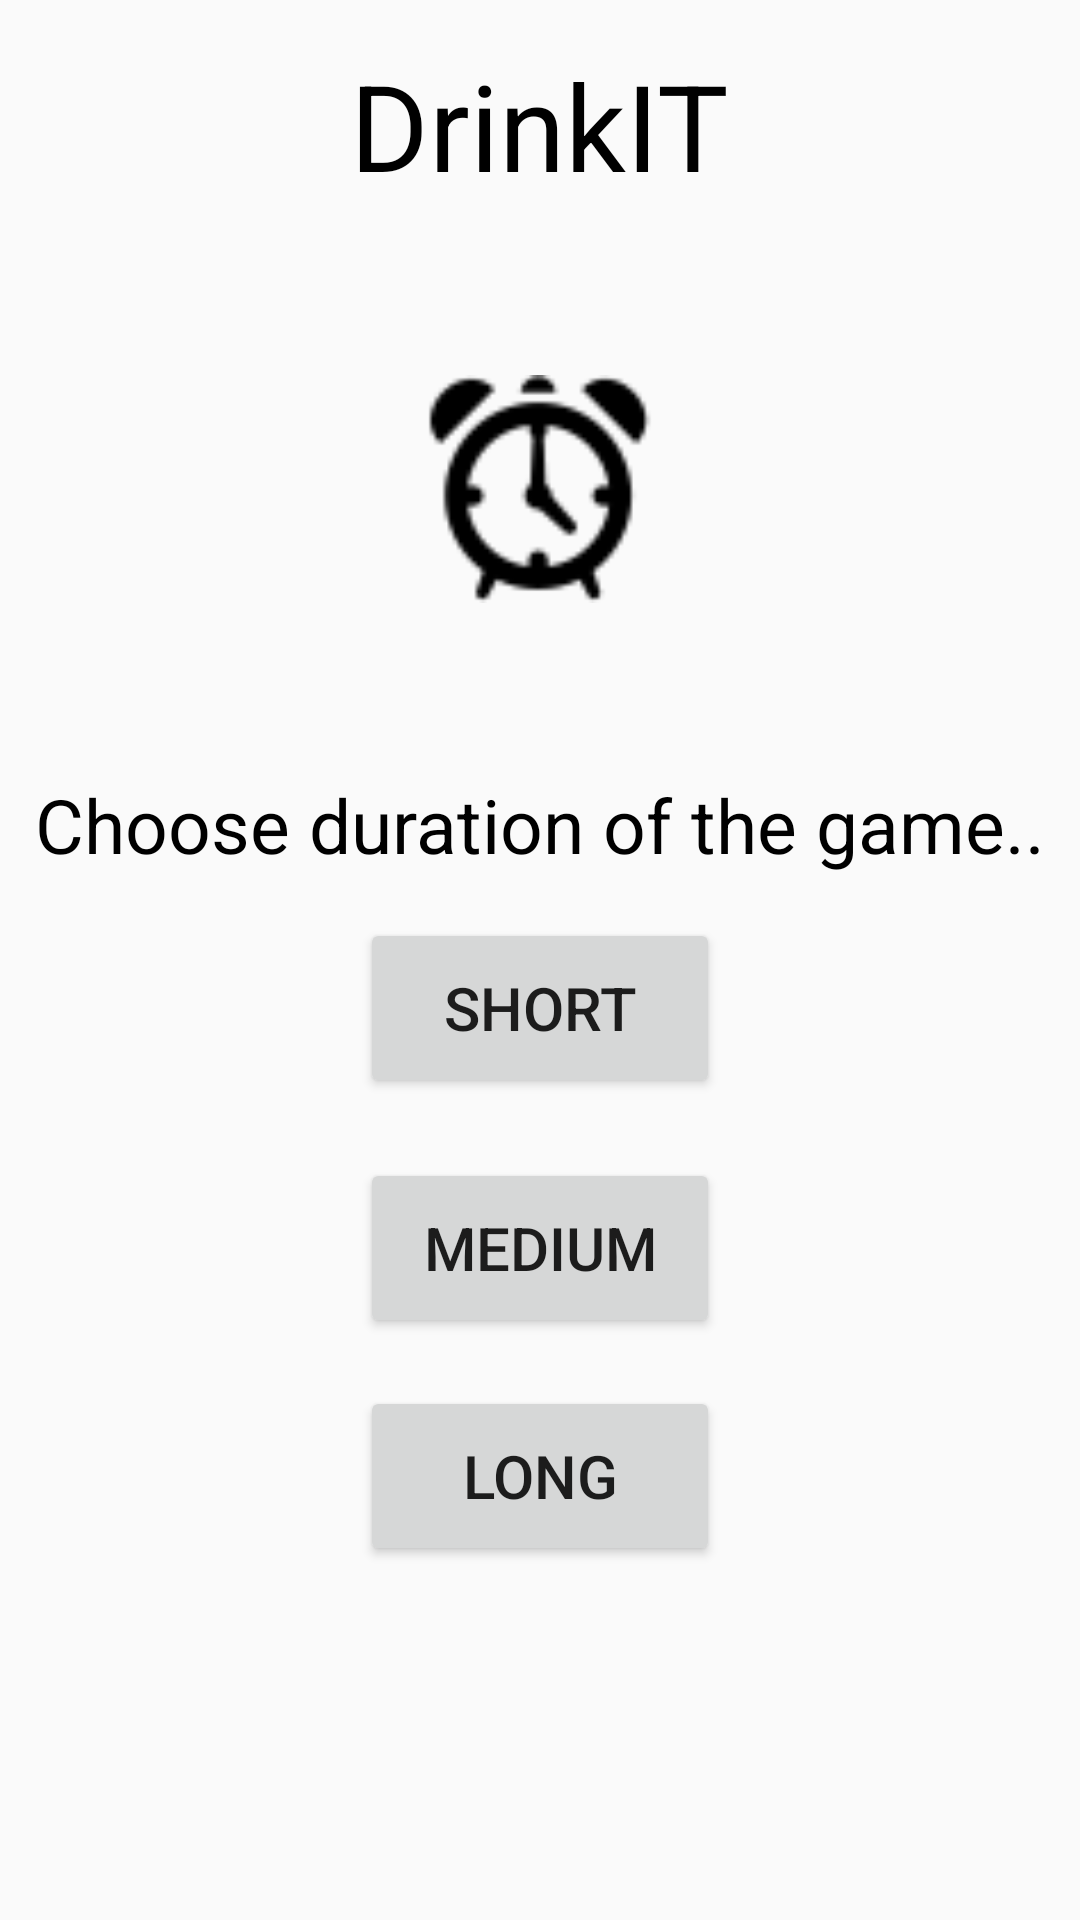

Icons on this 1080w x 1920h Android screen, each with the point to tap as (x=x, y=y):
alarm: (x=539, y=488)
